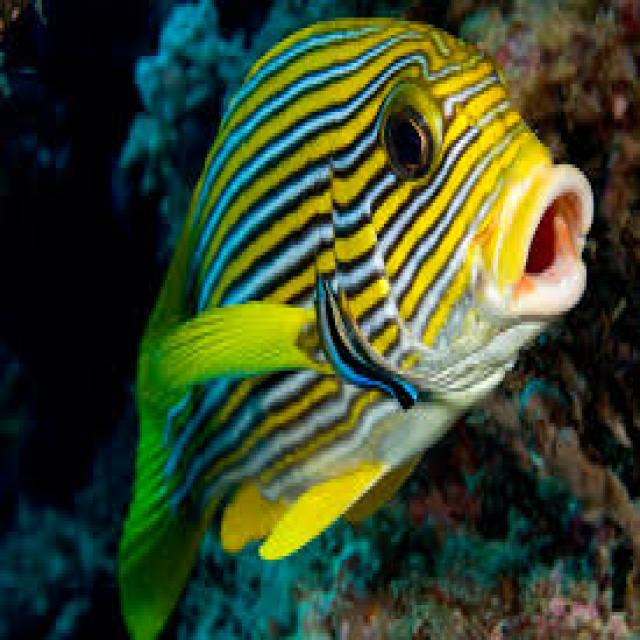RibbonedSweetlips: (114, 11, 596, 636)
